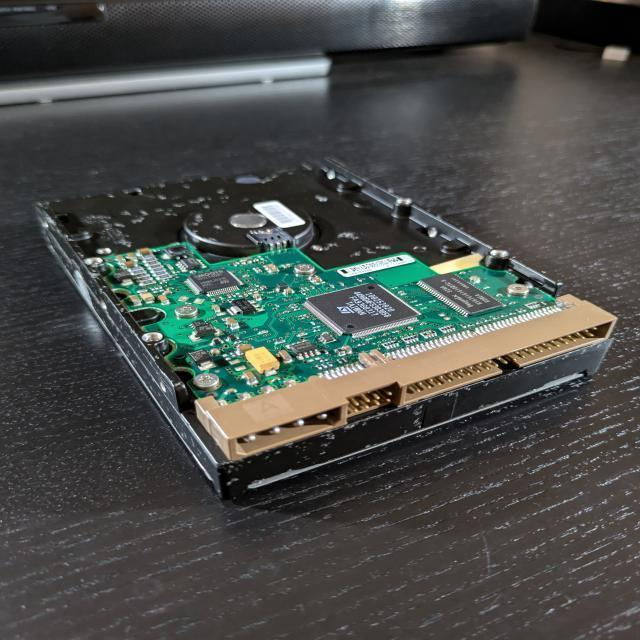DISK: (35, 162, 620, 502)
